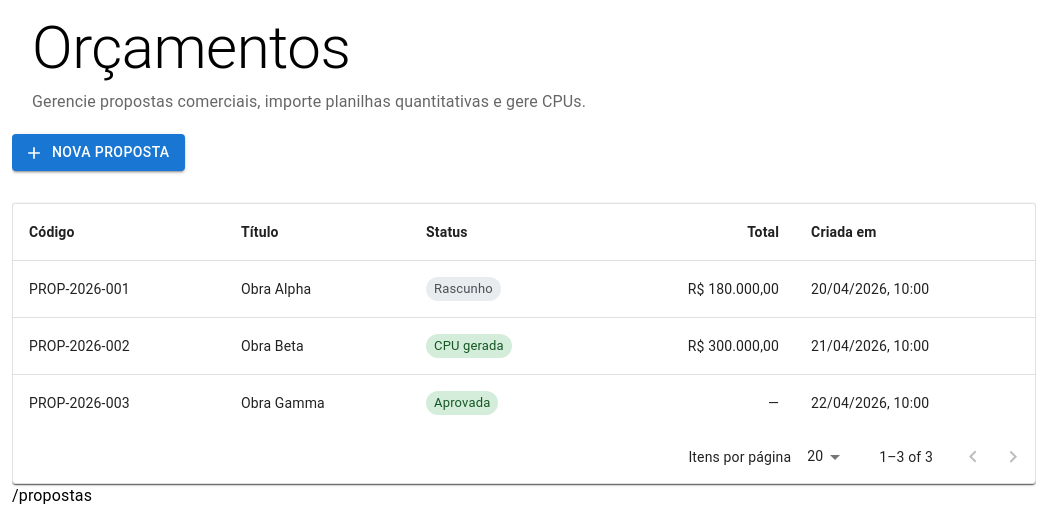
ProposalsListPage › click em linha navega para detail
Expected: the text "Obra Alpha" is shown, [225, 261, 410, 318]
Step 1. Click the text "Obra Alpha" → (524,289), box [13, 261, 1035, 318]
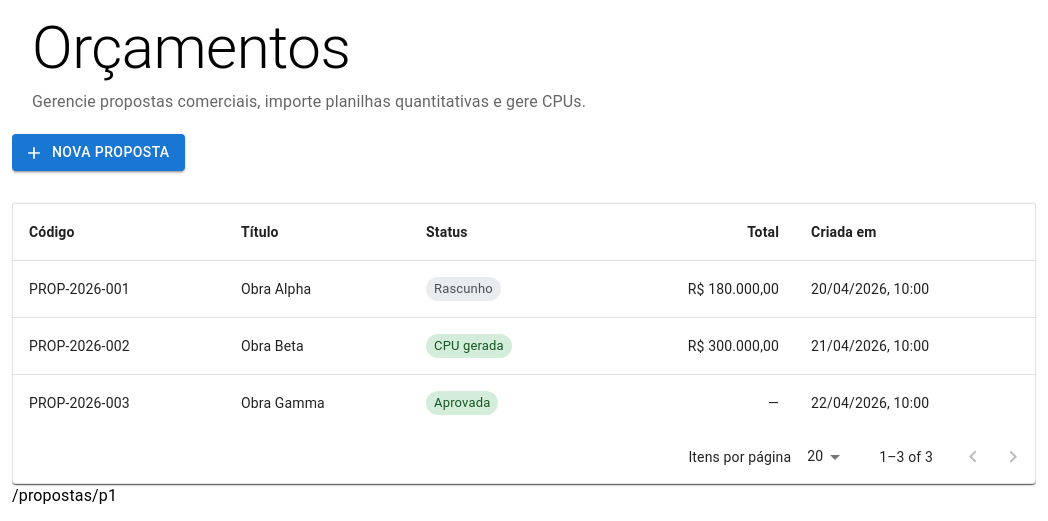
Expected: the text with test id "location" reads "/propostas/p1", [12, 486, 117, 505]
